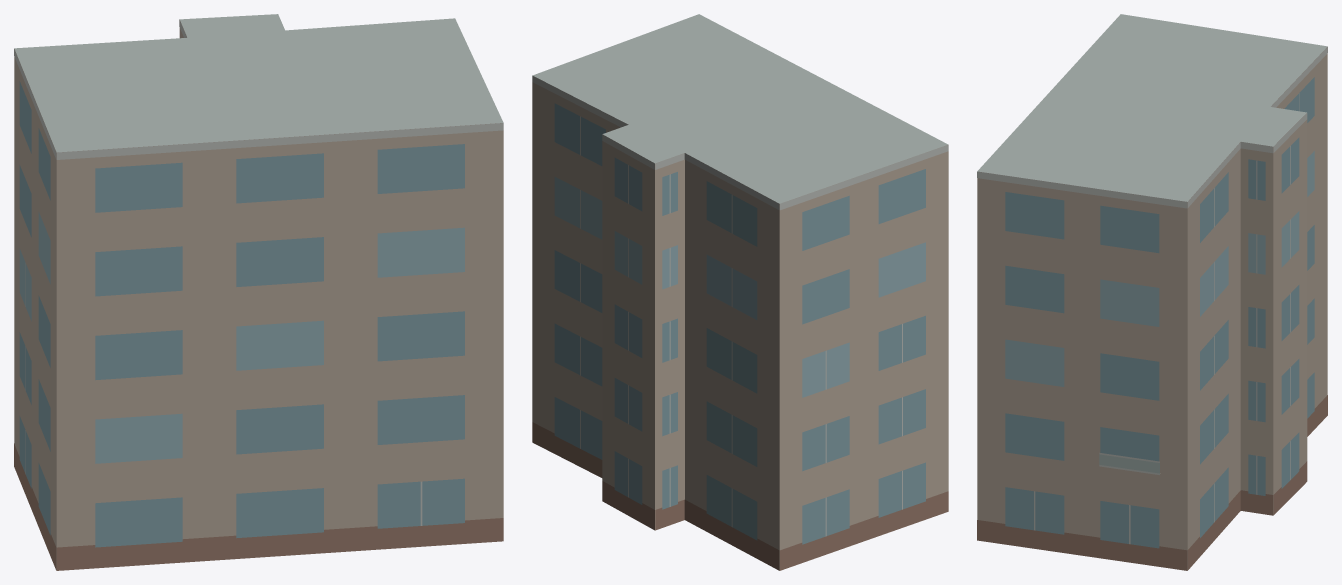
Rendered from survey-upis-32878374.glb.
3 renders of one model, left to right at view 1: azimuth 30°, elevation 25°; view 2: azimuth 150°, elevation 25°; view 3: azimuth 270°, elevation 25°, orthographic. The views are drawn at different scales.
Parts seen in each view (by area): view 1: survey-upis-32878374.tmp; view 2: survey-upis-32878374.tmp; view 3: survey-upis-32878374.tmp.
Part boxes in pixels (x1,y1,x2,y2): survey-upis-32878374.tmp: (14, 14, 503, 570); survey-upis-32878374.tmp: (532, 14, 948, 570); survey-upis-32878374.tmp: (977, 14, 1327, 570).
Bounding box in the file's own units: 14.75 × 13.5 × 11.64.
